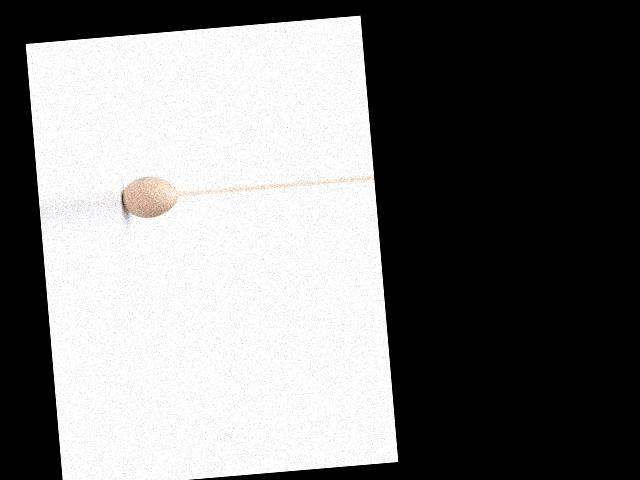egg: (120, 173, 179, 219)
